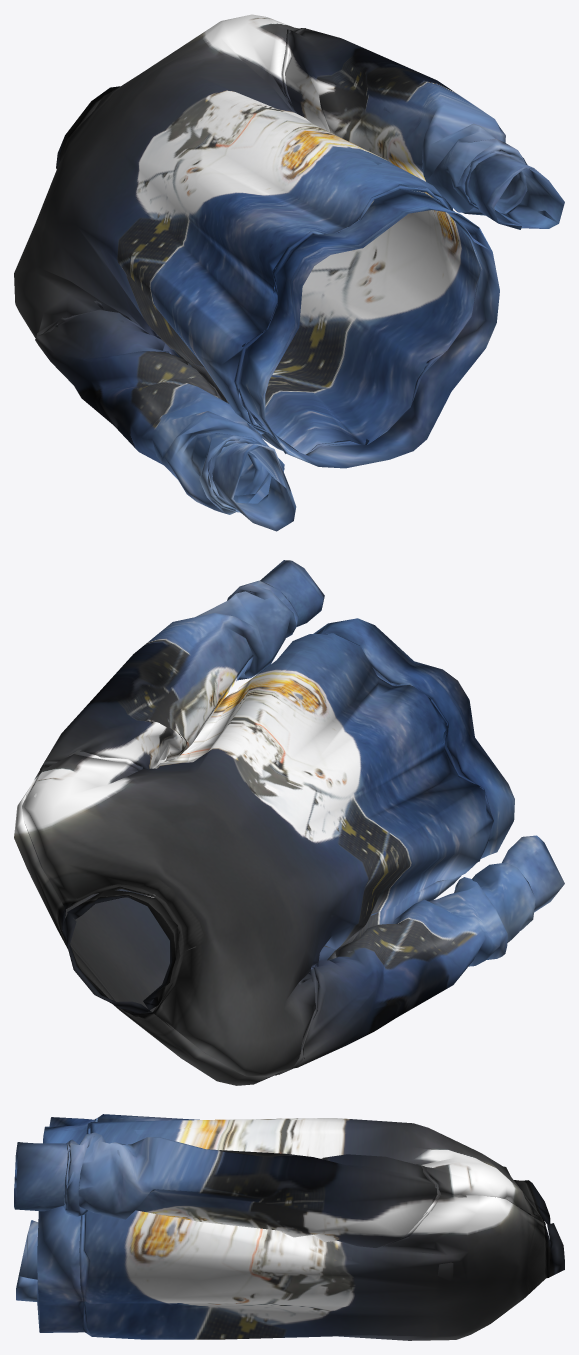
The model's file is longsleeve1a.glb.
3 renders of one model, top to bottom at view 1: azimuth 30°, elevation 25°; view 2: azimuth 150°, elevation 25°; view 3: azimuth 270°, elevation 25°, orthographic. The views are drawn at different scales.
Visible parts, largest first — view 1: dress.008; view 2: dress.008; view 3: dress.008.
Boxes of the visible parts, x1,y1,x2,y2 form: dress.008: (14,14,564,531); dress.008: (14,560,564,1085); dress.008: (14,1114,564,1340).
Size of the model in its own units: 0.9599 by 0.8646 by 1.53.
1 material, 1 textured.
